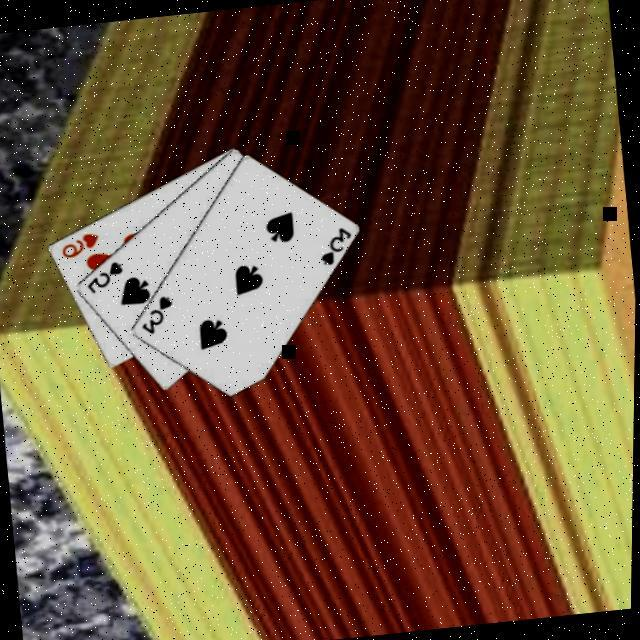3S: (316, 223, 359, 270), (138, 292, 180, 338)
5S: (84, 258, 130, 296)
9H: (59, 230, 105, 262)
